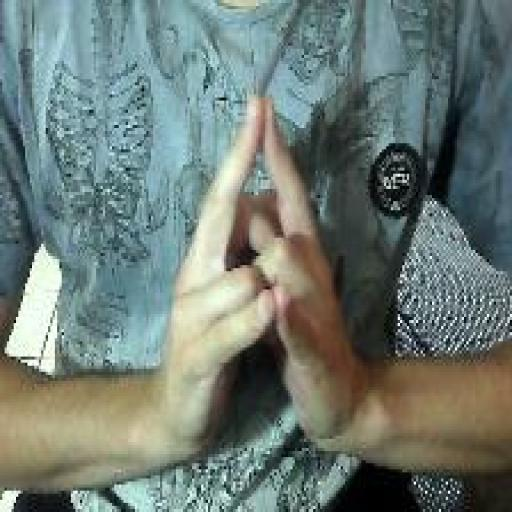Tori -bird-: (156, 88, 356, 466)
